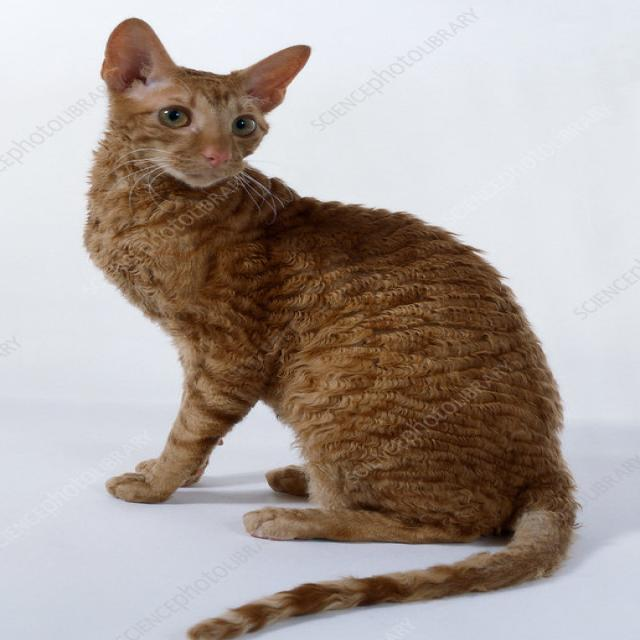Cornish Rex: (77, 12, 589, 640)
